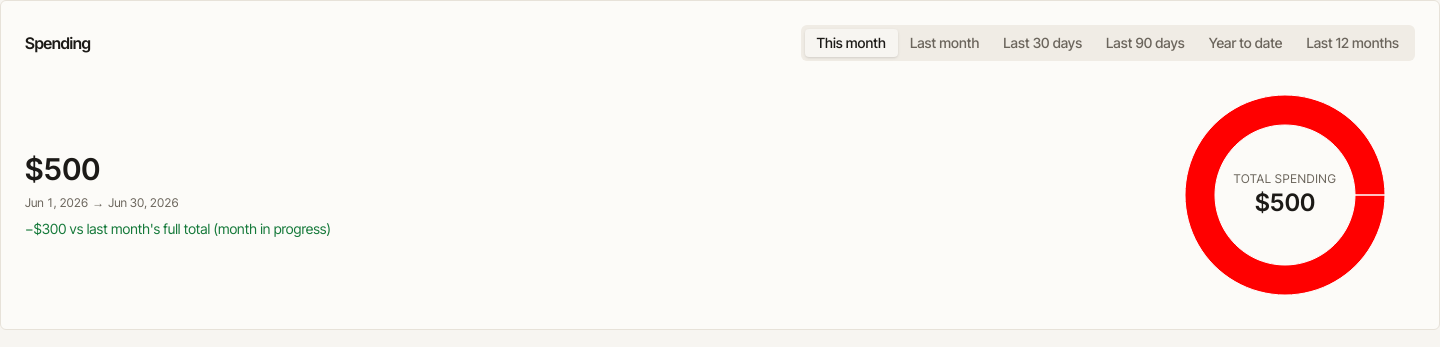
Scenario: SpendingSummaryHero › headline shows the selected-range total; switching tabs recomputes it
The image size is (1440, 347).
Check: the text with test id "spending-hero-total" reads "$500", box [25,151,100,187]
Click the tab "Last month" at (945, 43), box [898,29,991,57]
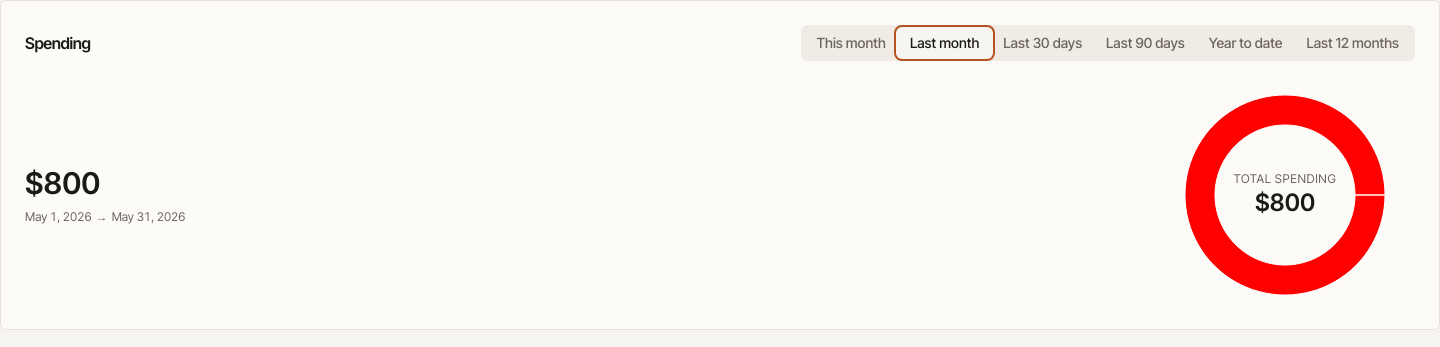
Check: the text with test id "spending-hero-total" reads "$800", box [25,165,100,201]
